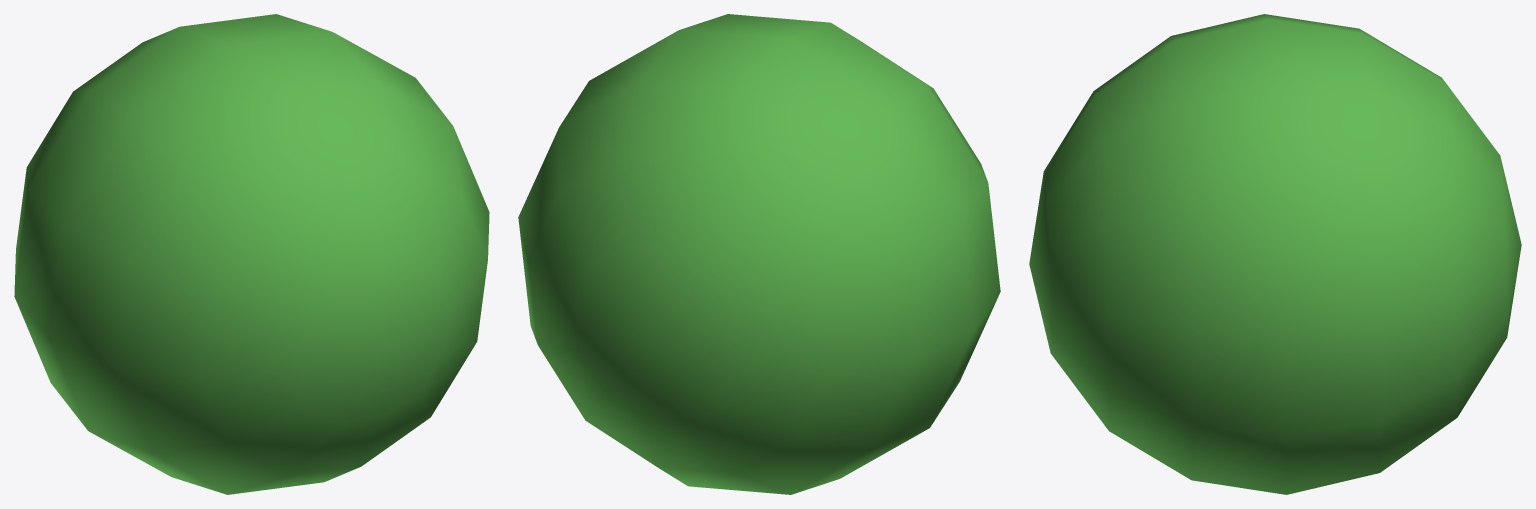
The model's file is linfatico-anterior-tibial-node-l.glb.
3 renders of one model, left to right at view 1: azimuth 30°, elevation 25°; view 2: azimuth 150°, elevation 25°; view 3: azimuth 270°, elevation 25°, orthographic.
Visible parts, largest first — view 1: (Anterior tibial node).l; view 2: (Anterior tibial node).l; view 3: (Anterior tibial node).l.
Part boxes in pixels (box(x1,y1,x2,y2)): (Anterior tibial node).l: box(14, 14, 489, 494); (Anterior tibial node).l: box(518, 14, 1000, 494); (Anterior tibial node).l: box(1029, 14, 1521, 494).
Bounding box in the file's own units: 0.00258 × 0.00258 × 0.0026.
